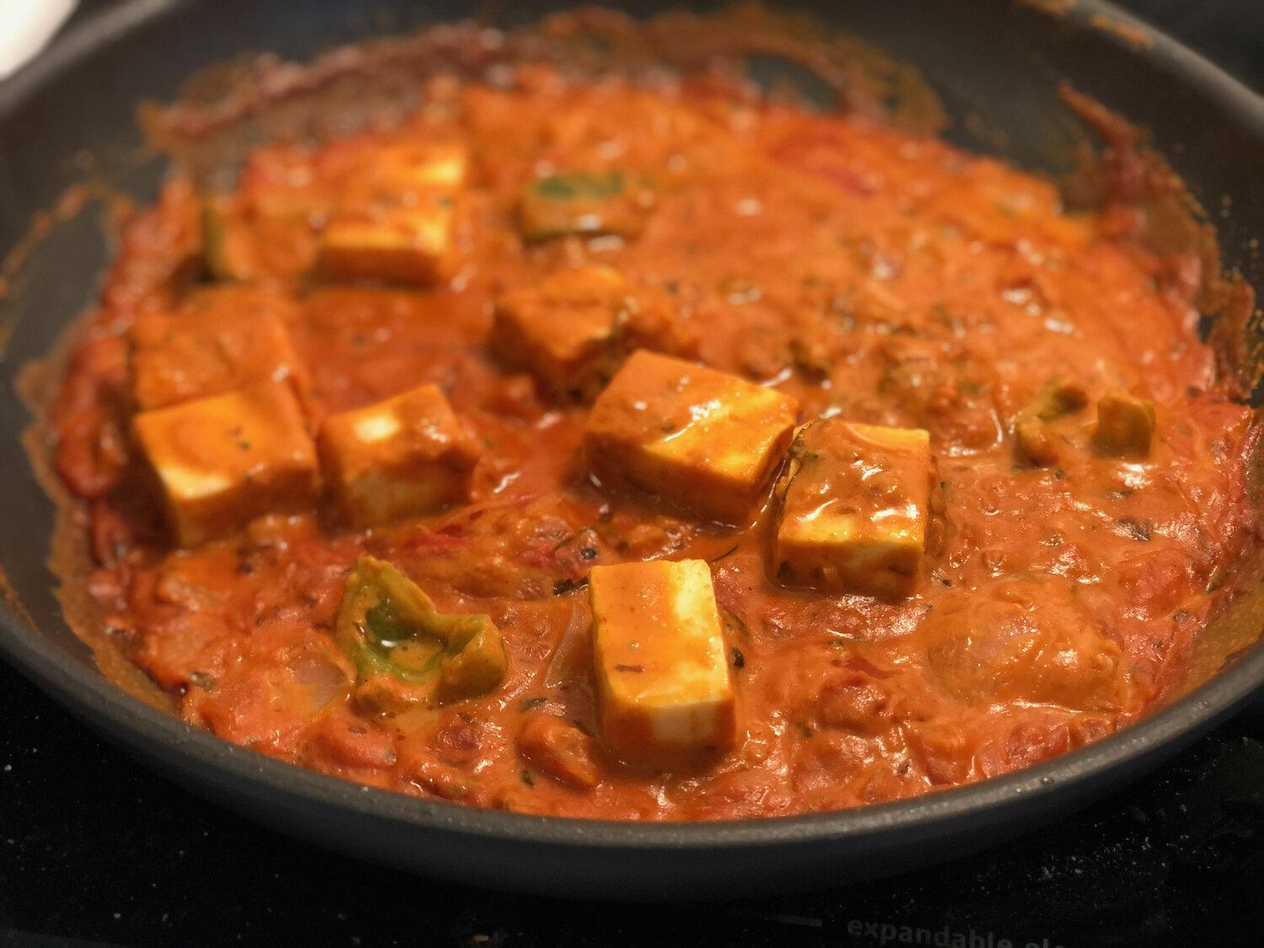paneer: (257, 209, 872, 633)
